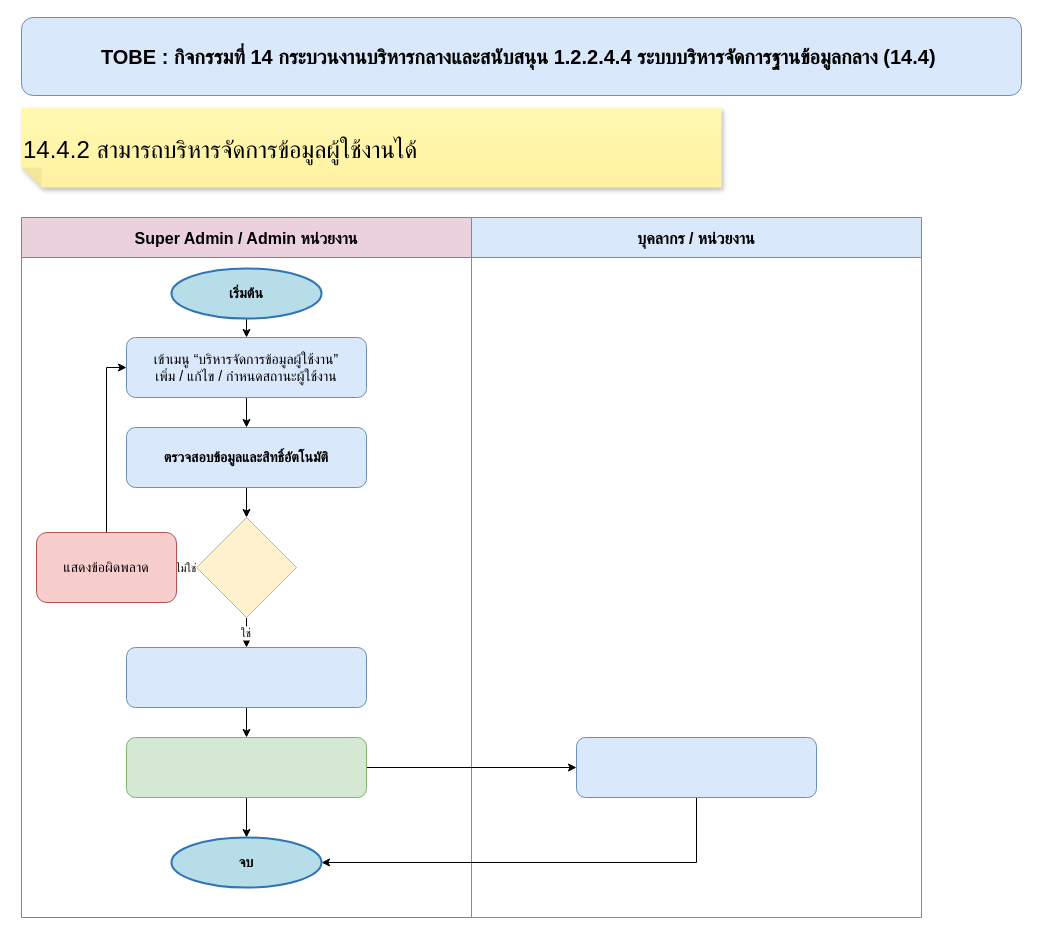
Image size: 1039x935. Some labels were removed from this diagram. Each missing label, with the centre of its shape:
"[ระบบ] อัปเดตสถานะผู้ใช้งานและ ซิงค์ระบบที่เกี่ยวข้องอัตโนมัติ" belongs at [246,767].
"ข้อมูล/สิทธิ์ ถูกต้อง?" belongs at [246,567].
"บันทึกข้อมูลผู้ใช้งานลงฐานข้อมูลกลาง" belongs at [246,677].
"ใช้งานระบบด้วยข้อมูล/สิทธิ์ล่าสุด" belongs at [696,767].
